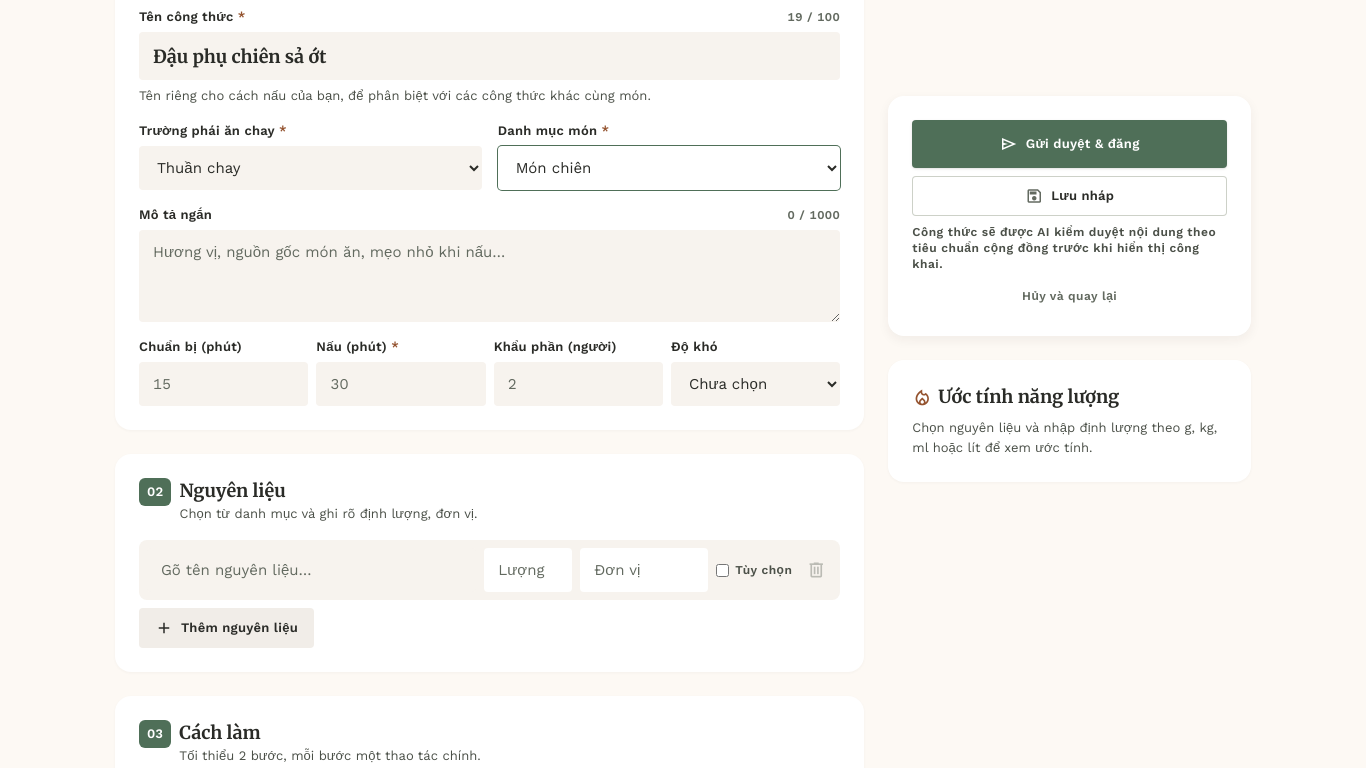
Scenario: RecipeEditor (SCR-13) › Thành viên › lưu nháp bằng POST, gửi duyệt lần sau bằng PUT rồi mở trang chi tiết khi được đăng
Earlier steps of the test are not shown.
Later steps or results of the test are not shown.
(page scrolled)
Step 1. Type "20" into the field labelled "Nấu (phút) *" → (401, 384), box [316,362,486,406]
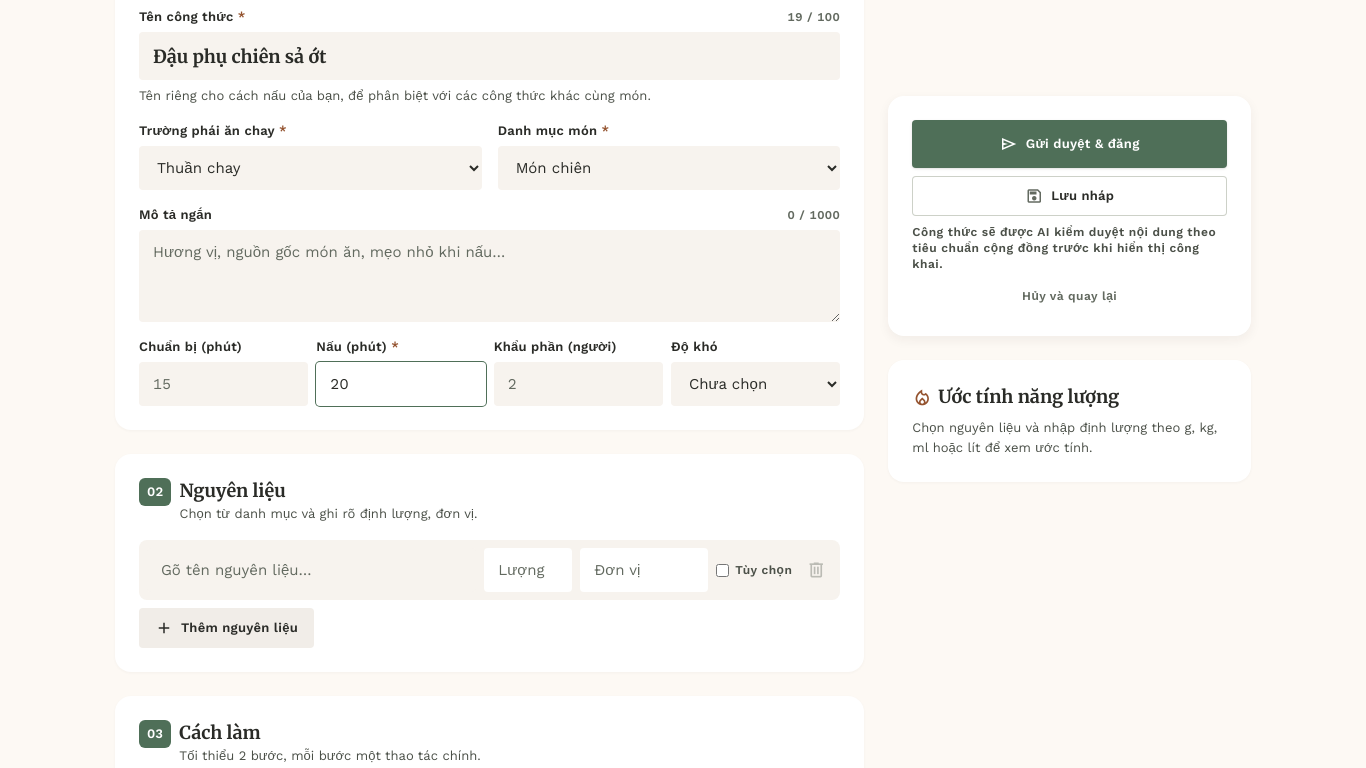
Step 2. Type "đậu" into the dropdown with placeholder "Gõ tên nguyên liệu…" → (312, 570), box [147,548,476,592]
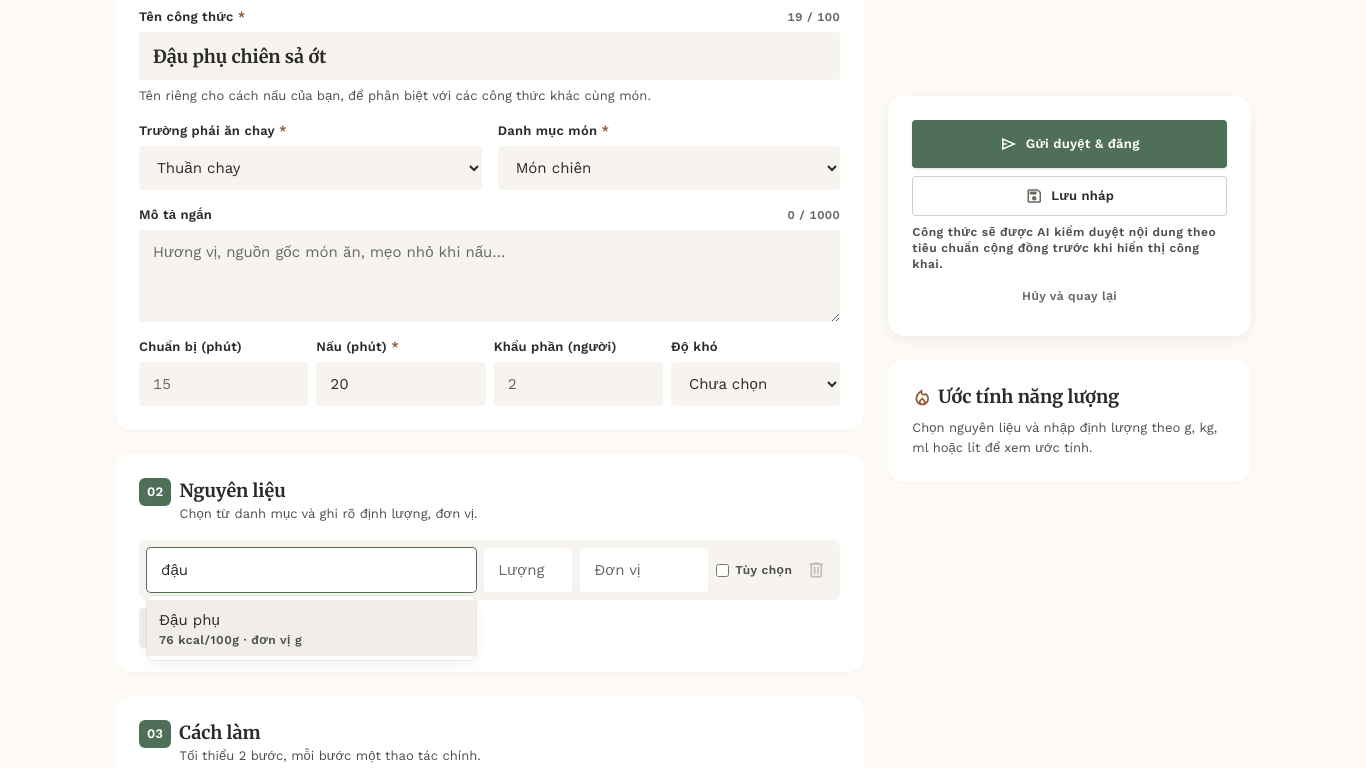
Step 3. Click the option "Đậu phụ 76 kcal/100g · đơn vị g" → (189, 620), box [147,600,476,656]
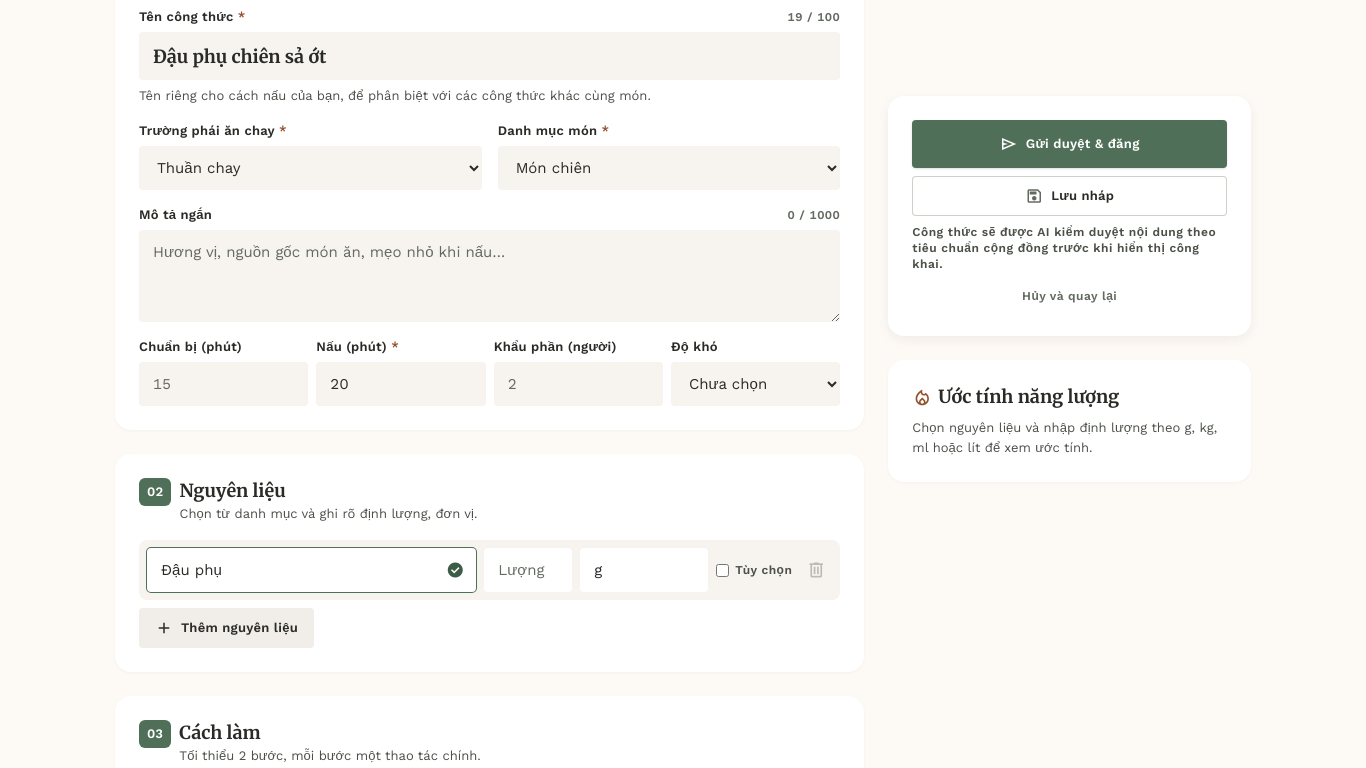
Step 4. Type "300" into the field named "Định lượng nguyên liệu 1" → (528, 570), box [484,548,572,592]
(page scrolled)
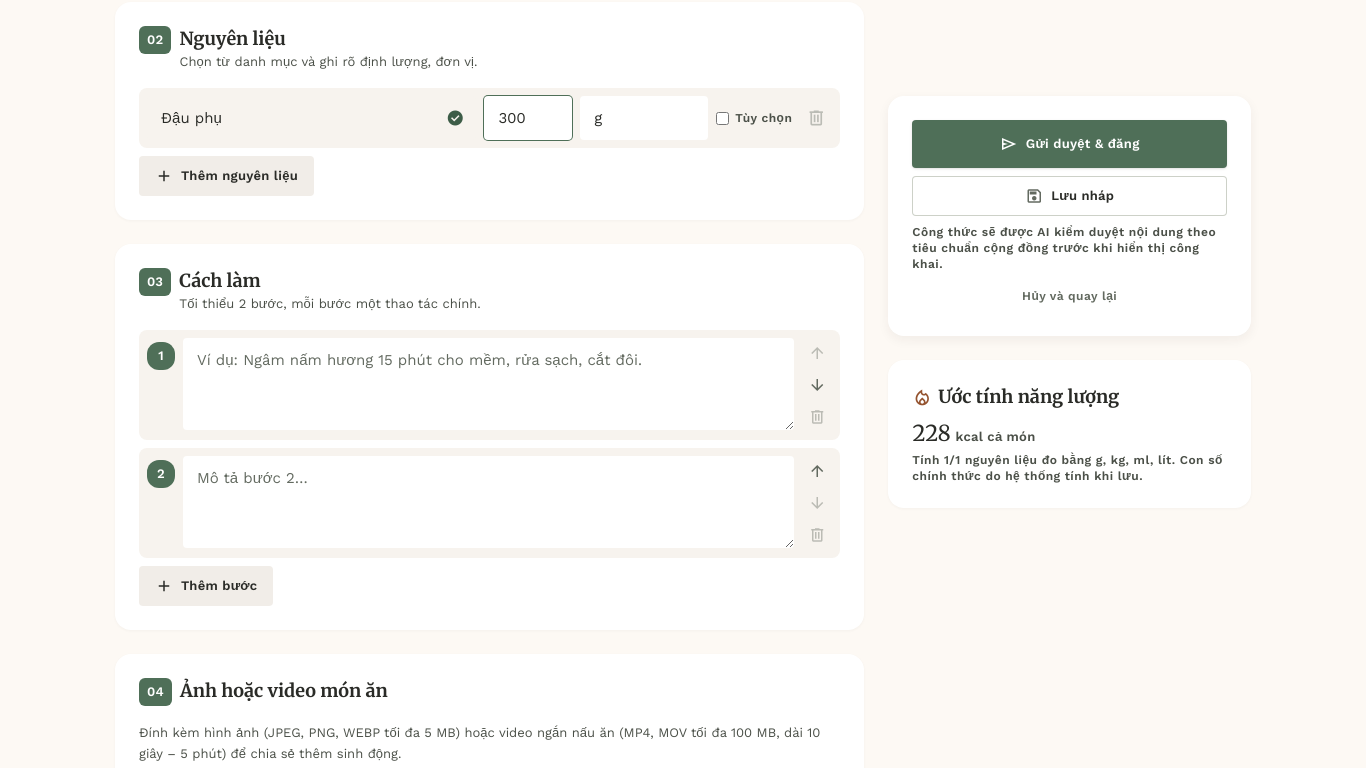
Step 5. Type "Cắt đậu thành khối." into the text box named "Bước 1" → (489, 384), box [183,338,794,430]
Step 6. Type "Chiên vàng giòn." into the text box labelled "bước 2" → (489, 502), box [183,456,794,548]
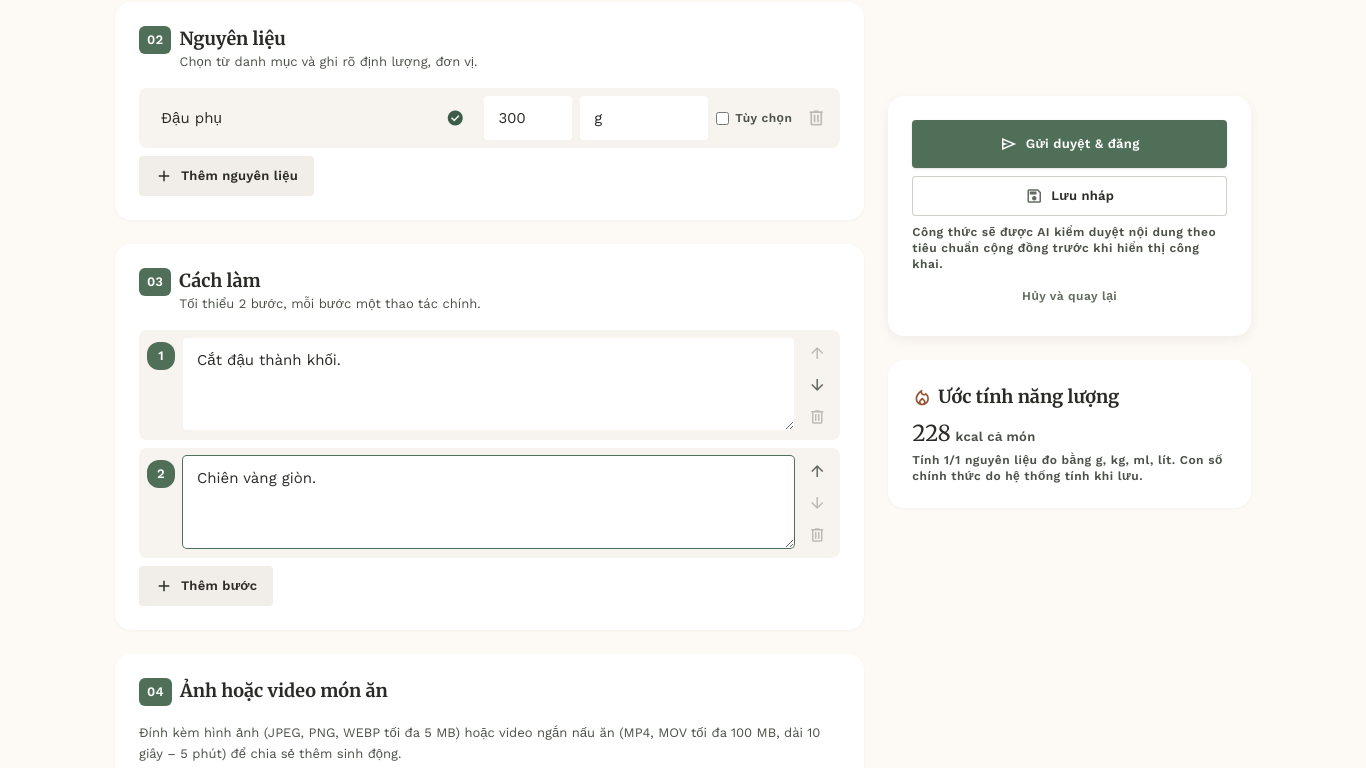
Now the field named "Đơn vị nguyên liệu 1" holds "g", box [580,96,708,140]
Step 7. Click the button "Lưu nháp" → (1070, 196), box [912,176,1227,216]
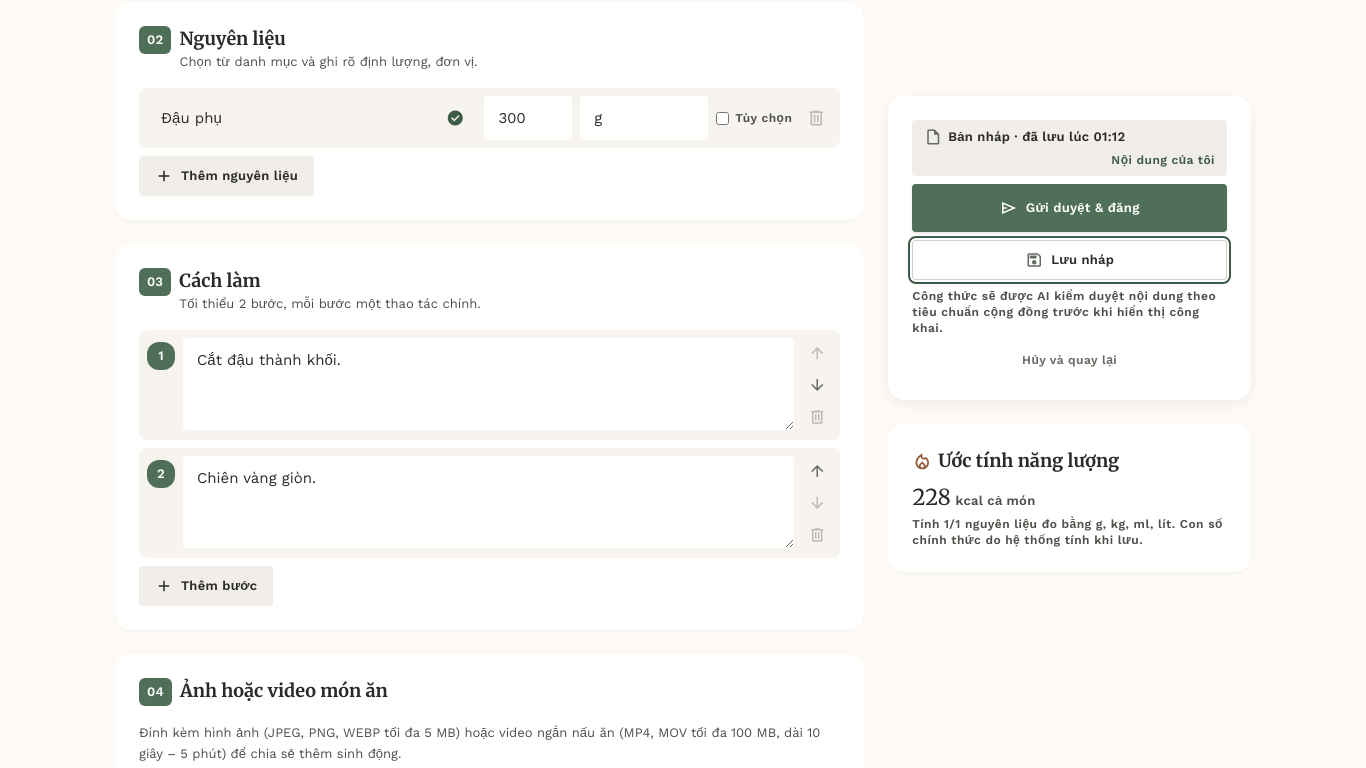
Now the text "Bản nháp · đã lưu lúc 01:12 Nội dung của tôi" is shown, box [912,120,1227,176]
